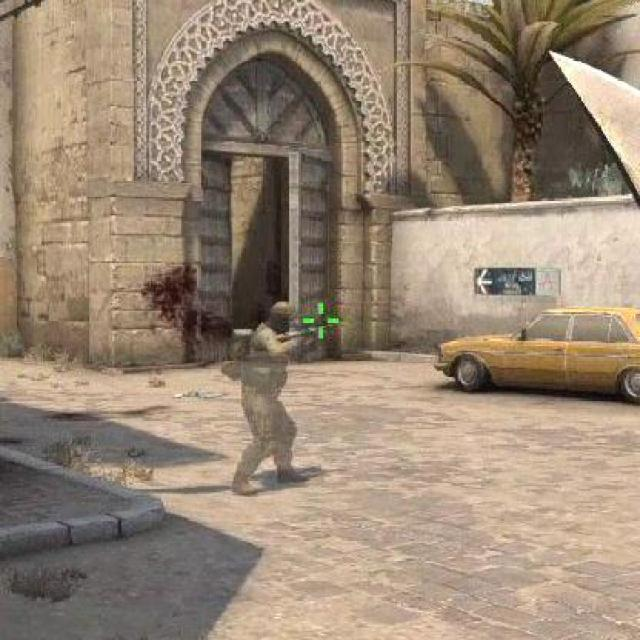CT: (223, 298, 309, 484)
CT_HEAD: (261, 306, 297, 334)
